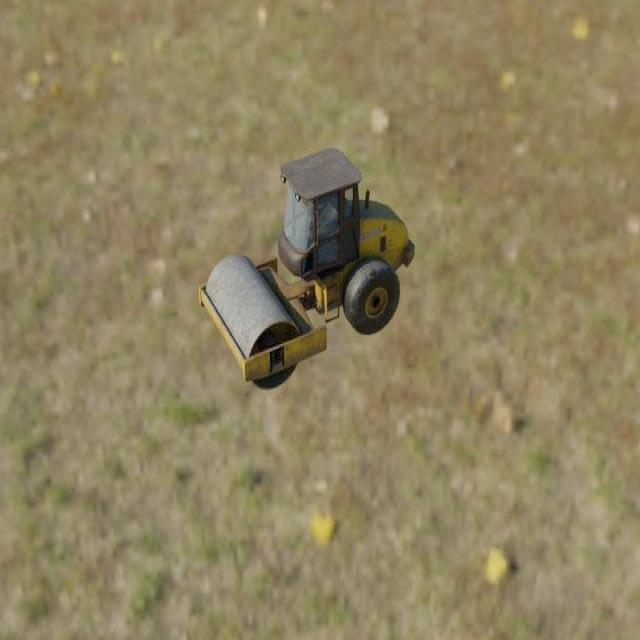Roller: (198, 147, 415, 390)
